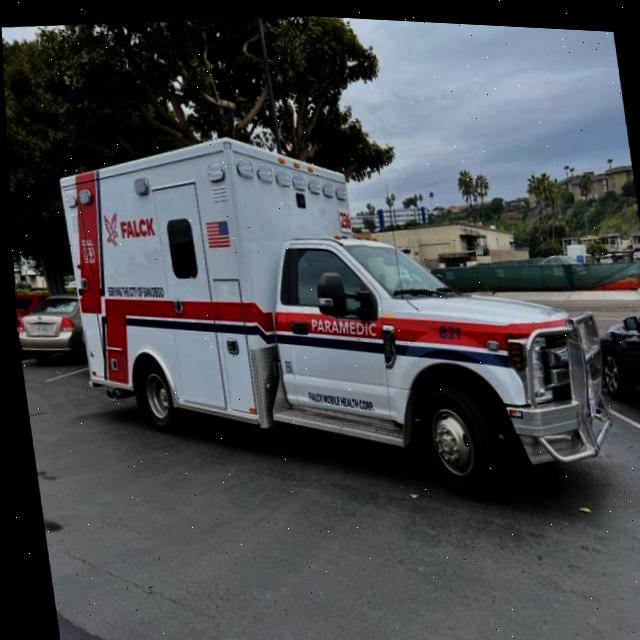emergency: (221, 101, 617, 515)
